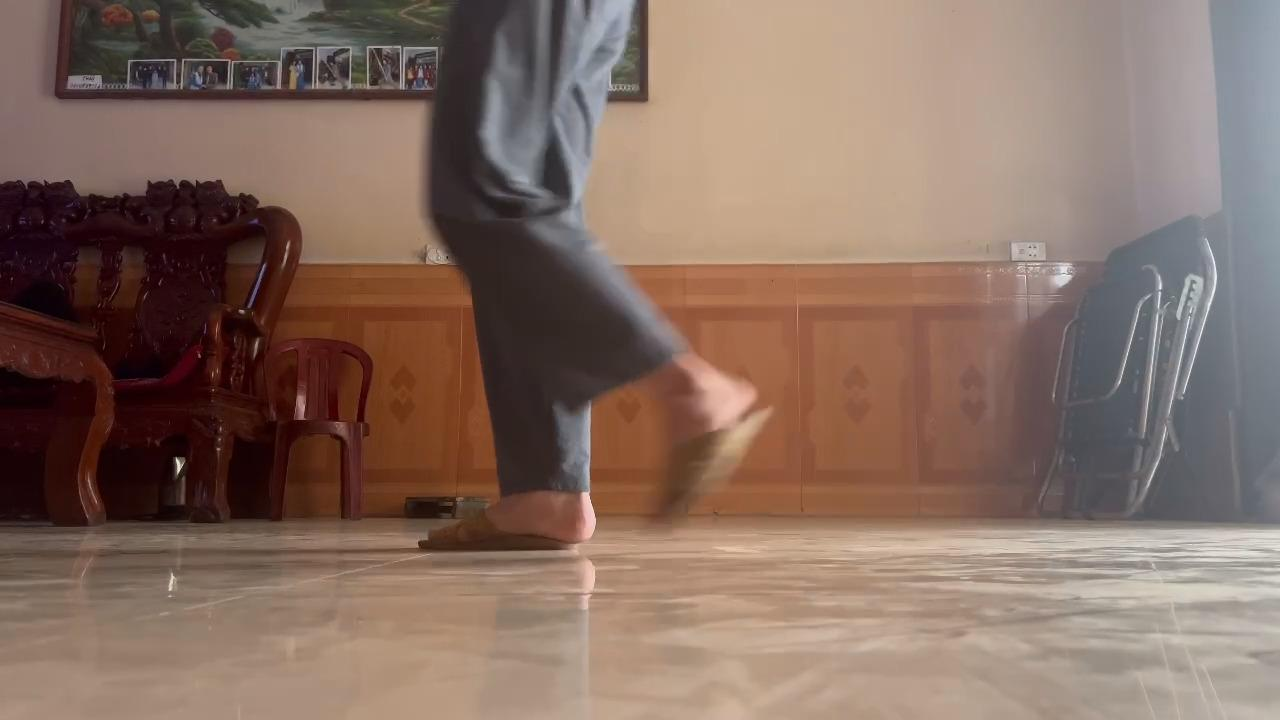no-boot: (637, 369, 786, 542), (412, 490, 605, 561)
